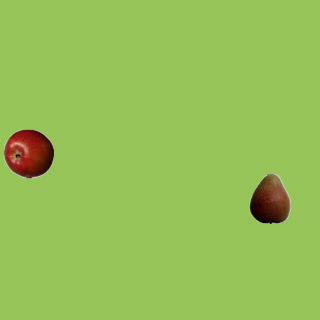Apple Braeburn: (3, 128, 53, 178)
Pear Forelle: (244, 173, 294, 223)
